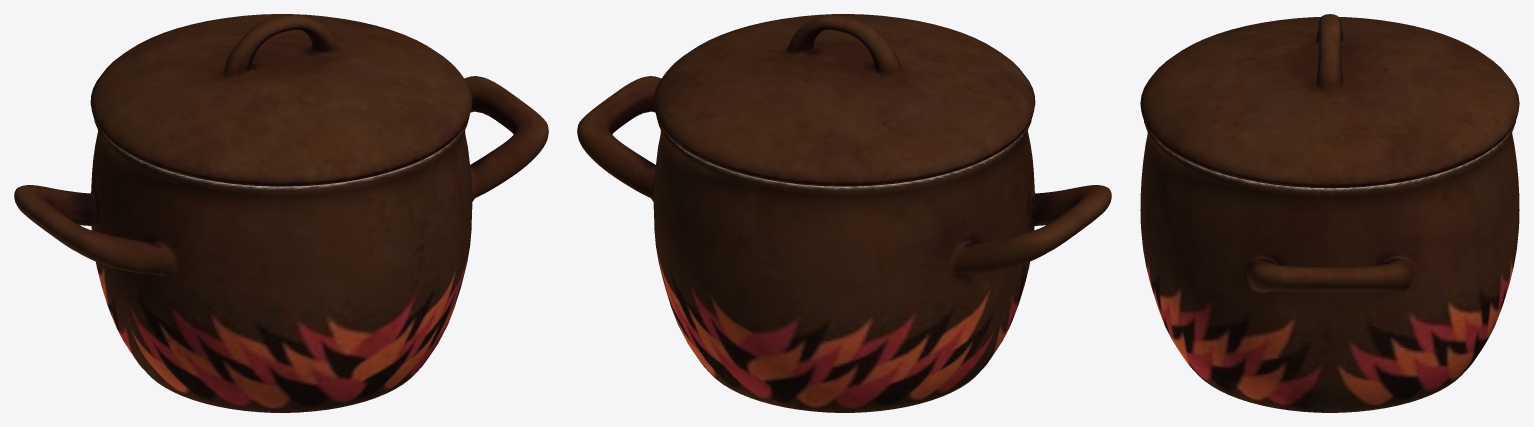
Rendered from pot_enamel_01.glb.
3 views of the same model, side by side, from view 1: azimuth 30°, elevation 25°; view 2: azimuth 150°, elevation 25°; view 3: azimuth 270°, elevation 25° (orthographic).
Visible parts, largest first — view 1: pot_enamel_01_lid; view 2: pot_enamel_01_lid; view 3: pot_enamel_01_lid.
Part boxes in pixels (bbox=[...]): pot_enamel_01_lid: bbox=[14, 14, 548, 412]; pot_enamel_01_lid: bbox=[577, 14, 1111, 412]; pot_enamel_01_lid: bbox=[1140, 14, 1519, 412].
Size of the model in its own units: 0.2629 by 0.1783 by 0.1805.
Materials: 1 (1 with a texture image).
